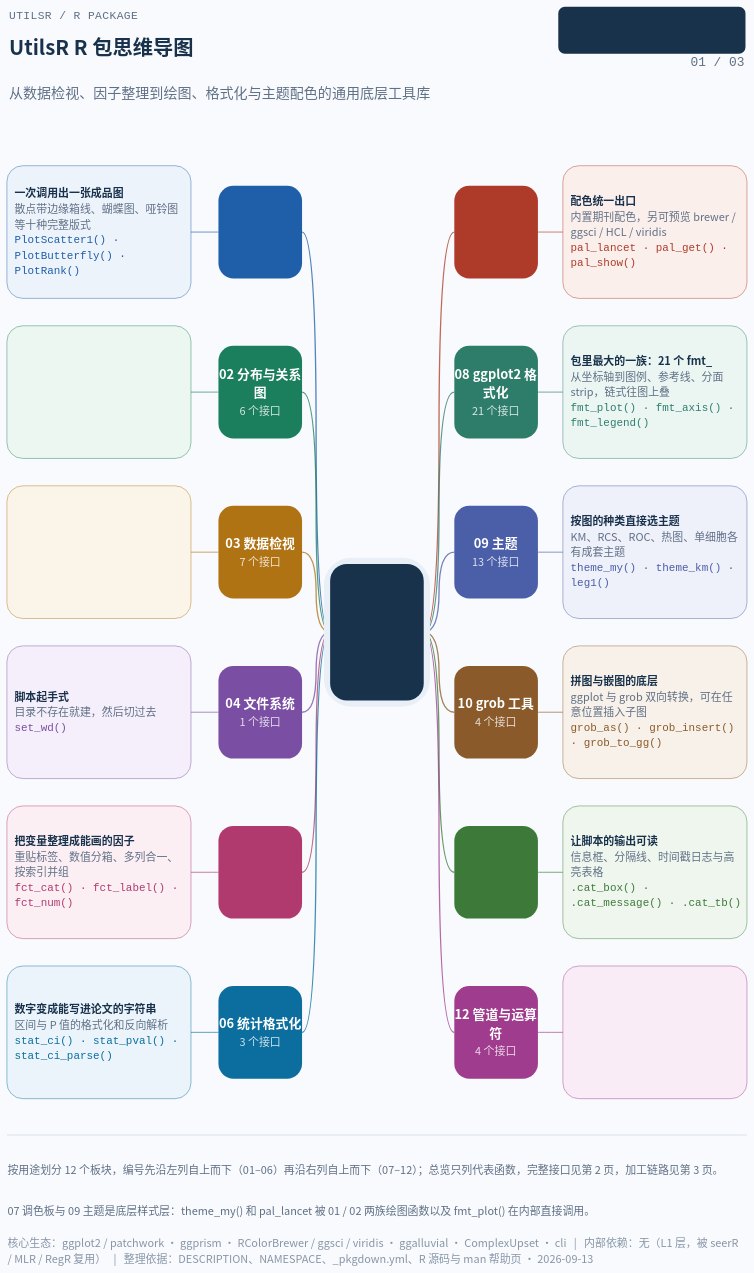
Image size: 754x1273. Some labels were removed from this diagram. Each missing label, with the centre of its shape:
"01 专用图形 Plot* 10 个接口" goes at (260,232).
"05 因子处理 5 个接口" goes at (260,872).
"07 调色板 13 个接口" goes at (496,232).
"11 控制台输出 5 个接口" goes at (496,872).
"UtilsR 数据探索与绘图工具库 被 RegR / MLR / seerR 复用" goes at (377,632).
"v0.6.8 · 92 个导出接口" goes at (651,30).
"拿到数据先看一遍 变量速查与缺失全景，顺带查环境与对象占用 lv() · check_na() · plt_na()" goes at (98,552).
"按变量类型自动选图 一个入口处理分类与连续变量，另有桑基、冲积与集合图 plt_cat() · plt_con() · plt_sankey()" goes at (98,391).
"脚本骨架 管道、赋值管道、否定成员与 NULL 合并 %>% · %<>% · %ni% · %||%" goes at (654,1032).
